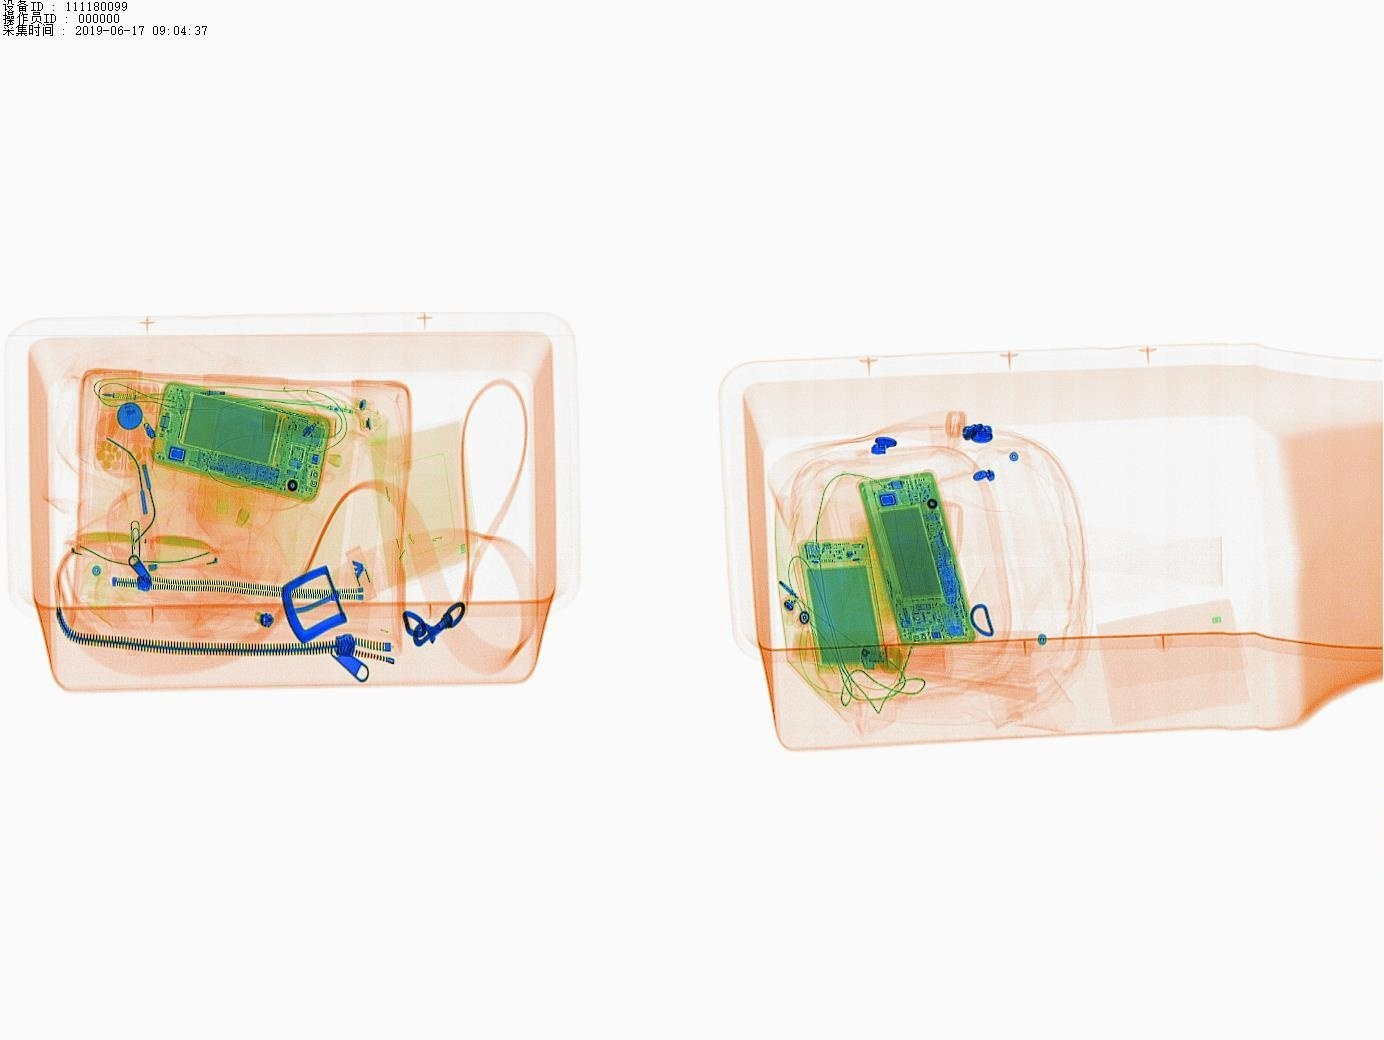NonmetallicFire: (850, 642, 959, 683)
